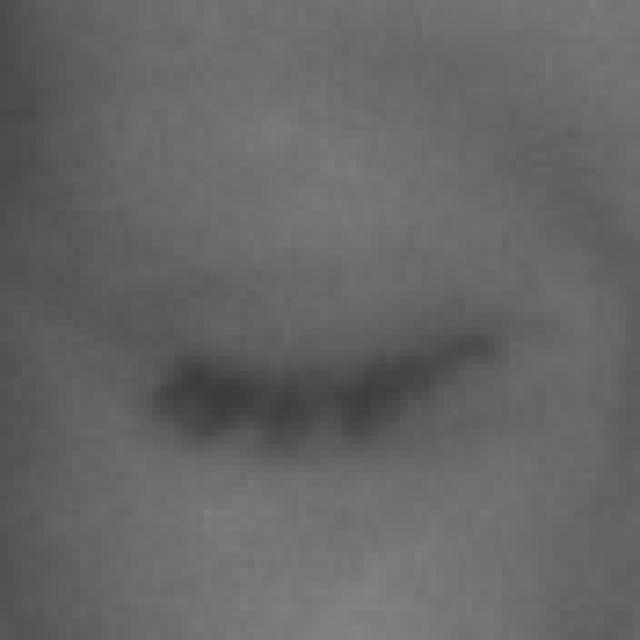Eyeclosed: (155, 204, 499, 556)
